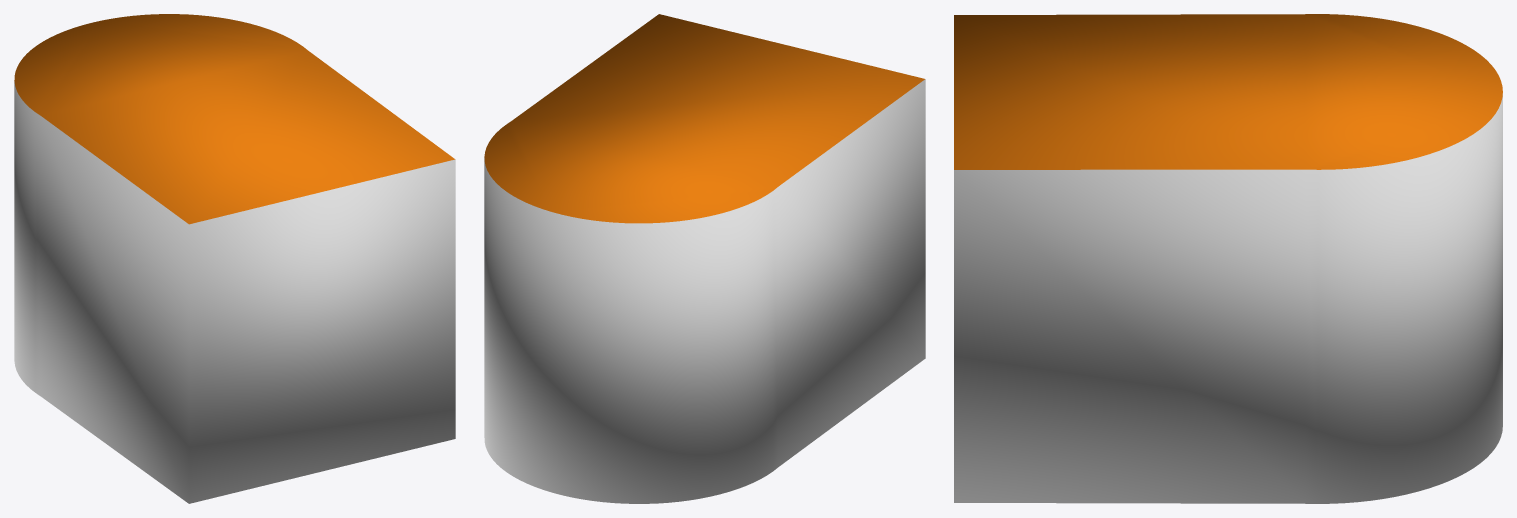
Rendered from URoom.fbx.
3 views of the same model, side by side, from view 1: azimuth 30°, elevation 25°; view 2: azimuth 150°, elevation 25°; view 3: azimuth 270°, elevation 25° (orthographic). The views are drawn at different scales.
Visible parts, largest first — view 1: Cylinder; view 2: Cylinder; view 3: Cylinder.
Boxes of the visible parts, x1,y1,x2,y2 form: Cylinder: (14,14,455,503); Cylinder: (484,14,925,503); Cylinder: (954,14,1502,503).
Size of the model in its own units: 204 by 204 by 304.
